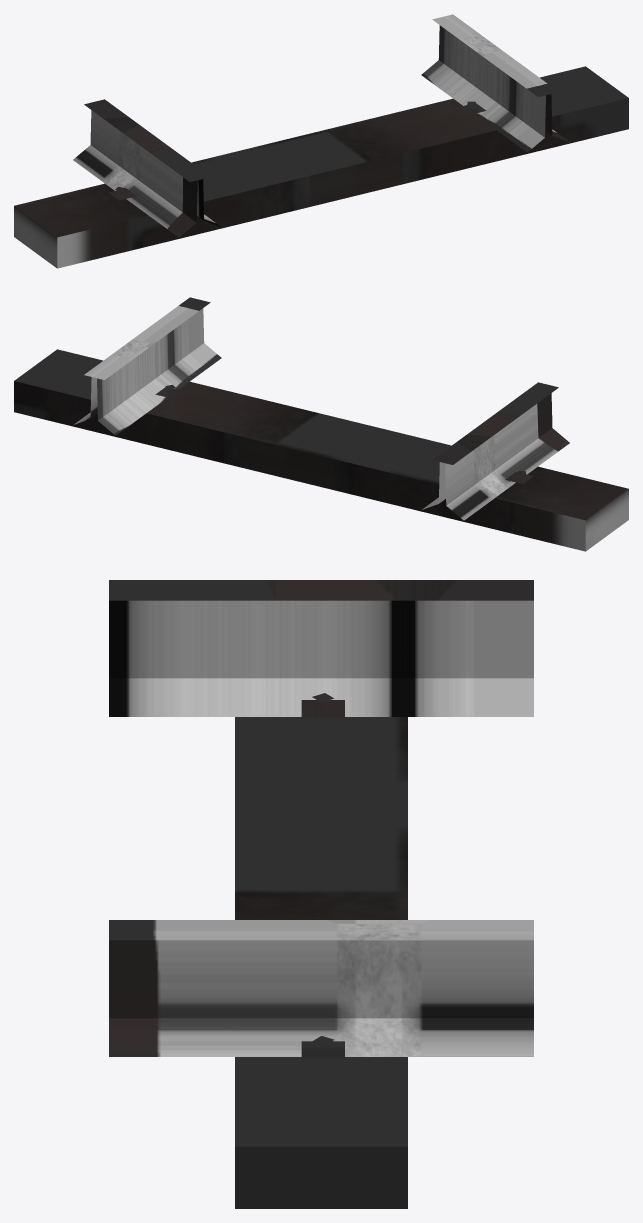
File: rail1067.obj
The picture shows the model from 3 angles, top to bottom: view 1: azimuth 30°, elevation 25°; view 2: azimuth 150°, elevation 25°; view 3: azimuth 270°, elevation 25°; orthographic projection. The views are drawn at different scales.
Visible parts, largest first — view 1: obj1; view 2: obj1; view 3: obj1.
Part boxes in pixels (left/top/right/bottom): obj1: left=14, top=14, right=628, bottom=268; obj1: left=14, top=297, right=628, bottom=551; obj1: left=109, top=580, right=533, bottom=1208.
Bounding box in the file's own units: 1.86 × 0.2643 × 0.6.
1 material, 1 textured.
